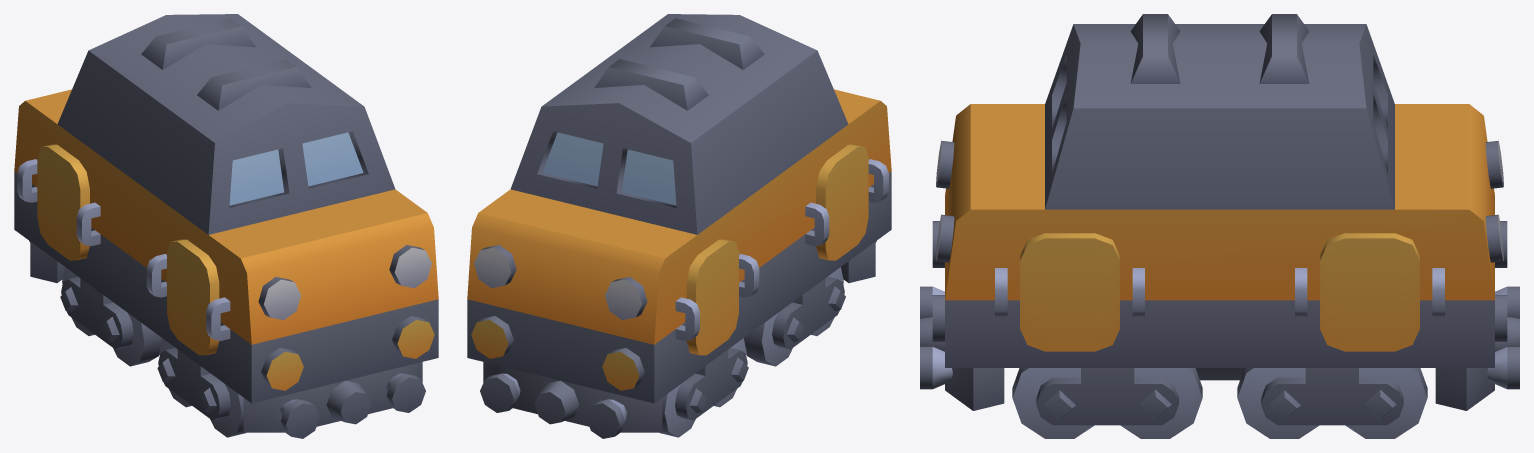
Rendered from train-diesel-a.glb.
The picture shows the model from 3 angles, left to right: view 1: azimuth 30°, elevation 25°; view 2: azimuth 150°, elevation 25°; view 3: azimuth 270°, elevation 25°; orthographic projection. The views are drawn at different scales.
Visible parts, largest first — view 1: train-diesel-a, wheels-back, wheels-front; view 2: train-diesel-a, wheels-front, wheels-back; view 3: train-diesel-a, wheels-front, wheels-back.
Part boxes in pixels (x1=…): train-diesel-a: x1=14, y1=14, x2=438, y2=438; wheels-back: x1=60, y1=267, x2=161, y2=366; wheels-front: x1=157, y1=338, x2=246, y2=437; train-diesel-a: x1=467, y1=14, x2=891, y2=438; wheels-front: x1=744, y1=267, x2=845, y2=366; wheels-back: x1=659, y1=338, x2=748, y2=437; train-diesel-a: x1=920, y1=14, x2=1519, y2=410; wheels-front: x1=1012, y1=368, x2=1202, y2=438; wheels-back: x1=1237, y1=368, x2=1427, y2=438.
Size of the model in its own units: 1.2 by 1.6 by 2.4.
